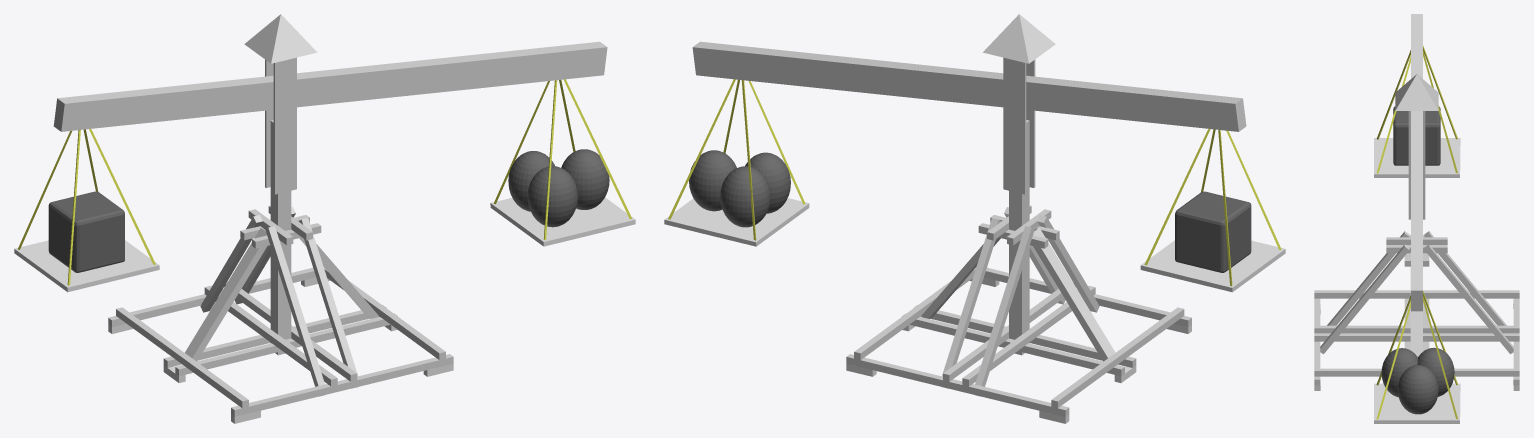
The model's file is saiseki.fbx.
The picture shows the model from 3 angles, left to right: view 1: azimuth 30°, elevation 25°; view 2: azimuth 150°, elevation 25°; view 3: azimuth 270°, elevation 25°; orthographic projection. The views are drawn at different scales.
Parts seen in each view (by area): view 1: foundation, weight2, weight, Plane2, Plane, nawa2, nawa; view 2: foundation, weight2, weight, Plane2, Plane, nawa2, nawa; view 3: foundation, weight2, Plane2, Plane, weight, nawa, nawa2.
Boxes of the visible parts, left/top/right/bottom form: foundation: left=53, top=14, right=607, bottom=423; weight2: left=508, top=149, right=609, bottom=227; weight: left=48, top=191, right=124, bottom=272; Plane2: left=490, top=197, right=635, bottom=246; Plane: left=14, top=240, right=159, bottom=292; nawa2: left=493, top=79, right=632, bottom=240; nawa: left=18, top=129, right=155, bottom=285; foundation: left=692, top=14, right=1246, bottom=423; weight2: left=689, top=150, right=790, bottom=227; weight: left=1175, top=191, right=1251, bottom=272; Plane2: left=664, top=198, right=809, bottom=246; Plane: left=1140, top=240, right=1285, bottom=292; nawa2: left=668, top=79, right=805, bottom=240; nawa: left=1144, top=128, right=1281, bottom=286; foundation: left=1314, top=14, right=1519, bottom=390; weight2: left=1381, top=347, right=1454, bottom=414; Plane2: left=1374, top=383, right=1460, bottom=423; Plane: left=1374, top=138, right=1460, bottom=177; weight: left=1393, top=106, right=1440, bottom=165; nawa: left=1376, top=45, right=1457, bottom=173; nawa2: left=1376, top=291, right=1457, bottom=419.
Bounding box in the file's own units: 519 × 294 × 200.
